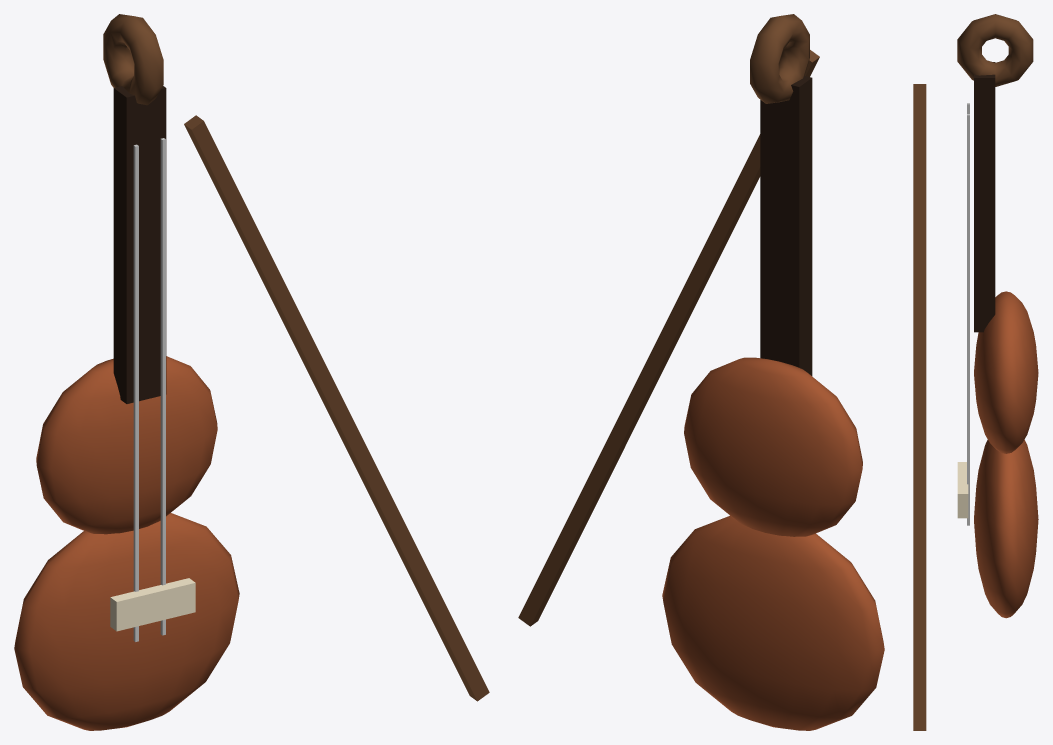
File: Fiddle.glb
3 renders of one model, left to right at view 1: azimuth 30°, elevation 25°; view 2: azimuth 150°, elevation 25°; view 3: azimuth 270°, elevation 25°, orthographic. The views are drawn at different scales.
Visible parts, largest first — view 1: Fiddle; view 2: Fiddle; view 3: Fiddle.
Boxes of the visible parts, left/top/right/bottom form: Fiddle: left=14, top=14, right=489, bottom=730; Fiddle: left=518, top=14, right=884, bottom=730; Fiddle: left=913, top=14, right=1038, bottom=730.
Size of the model in its own units: 0.3722 by 0.6114 by 0.116.
